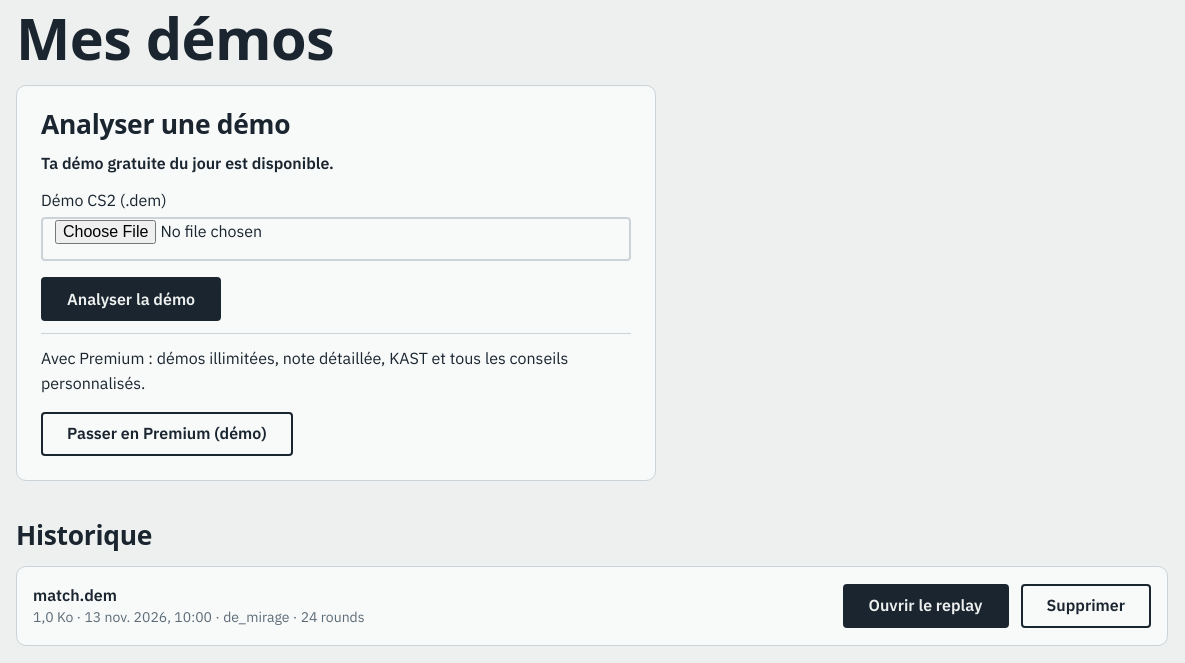
Test: DashboardPage › deletes a demo after confirmation
The image size is (1185, 663).
Click the button with aria-label "Supprimer match.dem" at point(1086, 606), box [1020, 584, 1151, 628]
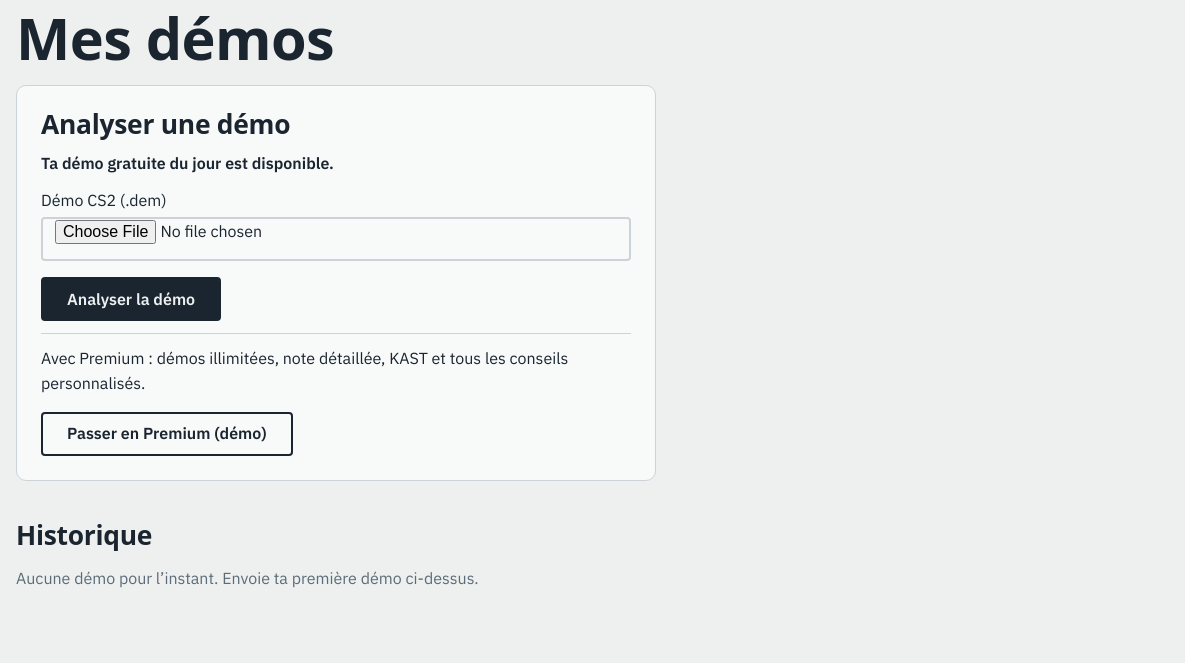
Check: the text "Aucune démo" is shown, box [16, 568, 479, 588]
